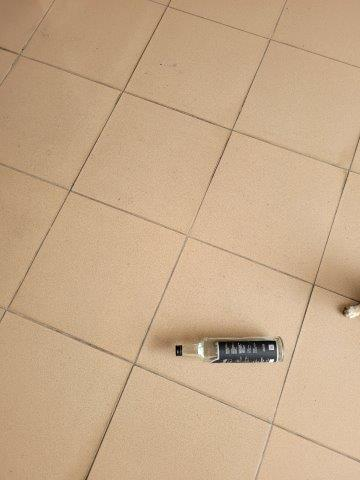botolkaca: (176, 338, 284, 364)
